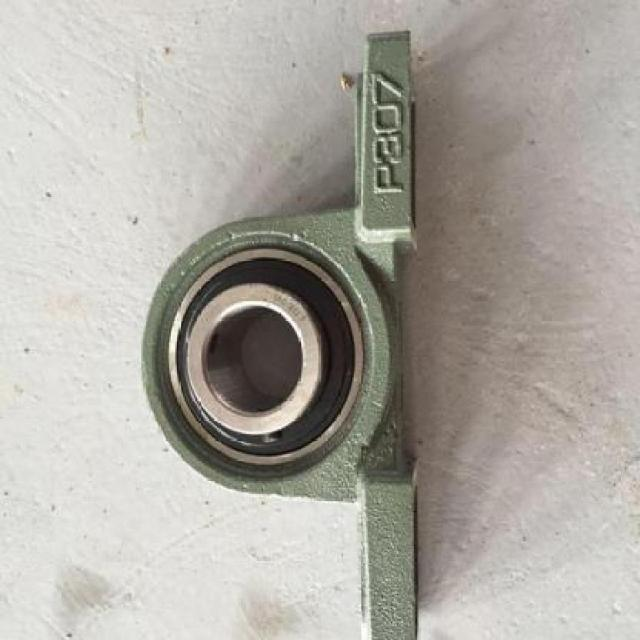Bearing: (159, 245, 366, 469)
